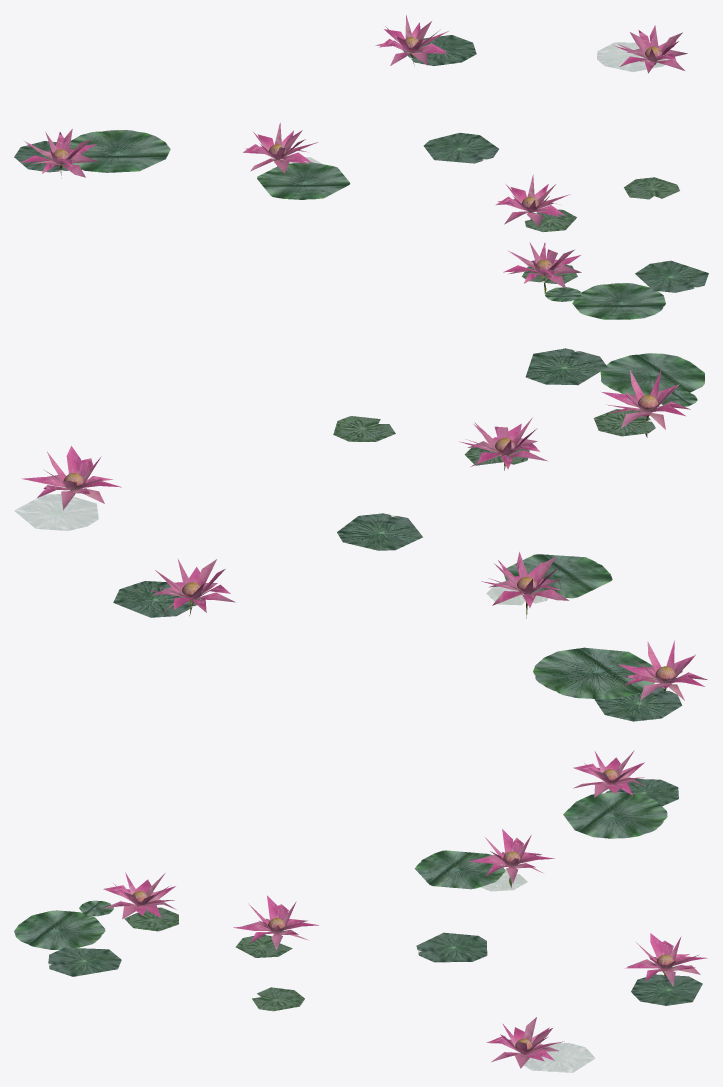
Rendered from sen.glb.
3 views of the same model, one above another, from view 1: azimuth 30°, elevation 25°; view 2: azimuth 150°, elevation 25°; view 3: azimuth 270°, elevation 25° (orthographic). The views are drawn at different scales.
Visible parts, largest first — view 1: 12_Pcs_Lotus_Leaves_High_Quality_Durable_Prime_Sturdy_Lotus. (×11), 12_Pcs_Lotus_Leaves_High_Quality_Durable_Prime_Sturdy_Lotus_; view 2: 12_Pcs_Lotus_Leaves_High_Quality_Durable_Prime_Sturdy_Lotus. (×11), 12_Pcs_Lotus_Leaves_High_Quality_Durable_Prime_Sturdy_Lotus_; view 3: 12_Pcs_Lotus_Leaves_High_Quality_Durable_Prime_Sturdy_Lotus. (×11), 12_Pcs_Lotus_Leaves_High_Quality_Durable_Prime_Sturdy_Lotus_.
Boxes of the visible parts, <box> form: 12_Pcs_Lotus_Leaves_High_Quality_Durable_Prime_Sturdy_Lotus. (×11): <box>14,15,708,293</box>; 12_Pcs_Lotus_Leaves_High_Quality_Durable_Prime_Sturdy_Lotus_: <box>572,283,665,319</box>; 12_Pcs_Lotus_Leaves_High_Quality_Durable_Prime_Sturdy_Lotus. (×11): <box>15,348,707,721</box>; 12_Pcs_Lotus_Leaves_High_Quality_Durable_Prime_Sturdy_Lotus_: <box>600,353,704,395</box>; 12_Pcs_Lotus_Leaves_High_Quality_Durable_Prime_Sturdy_Lotus. (×11): <box>48,750,707,1072</box>; 12_Pcs_Lotus_Leaves_High_Quality_Durable_Prime_Sturdy_Lotus_: <box>14,910,105,949</box>.
Bounding box in the file's own units: 0.9986 × 0.0748 × 0.9616.
3 materials, 3 textured.
